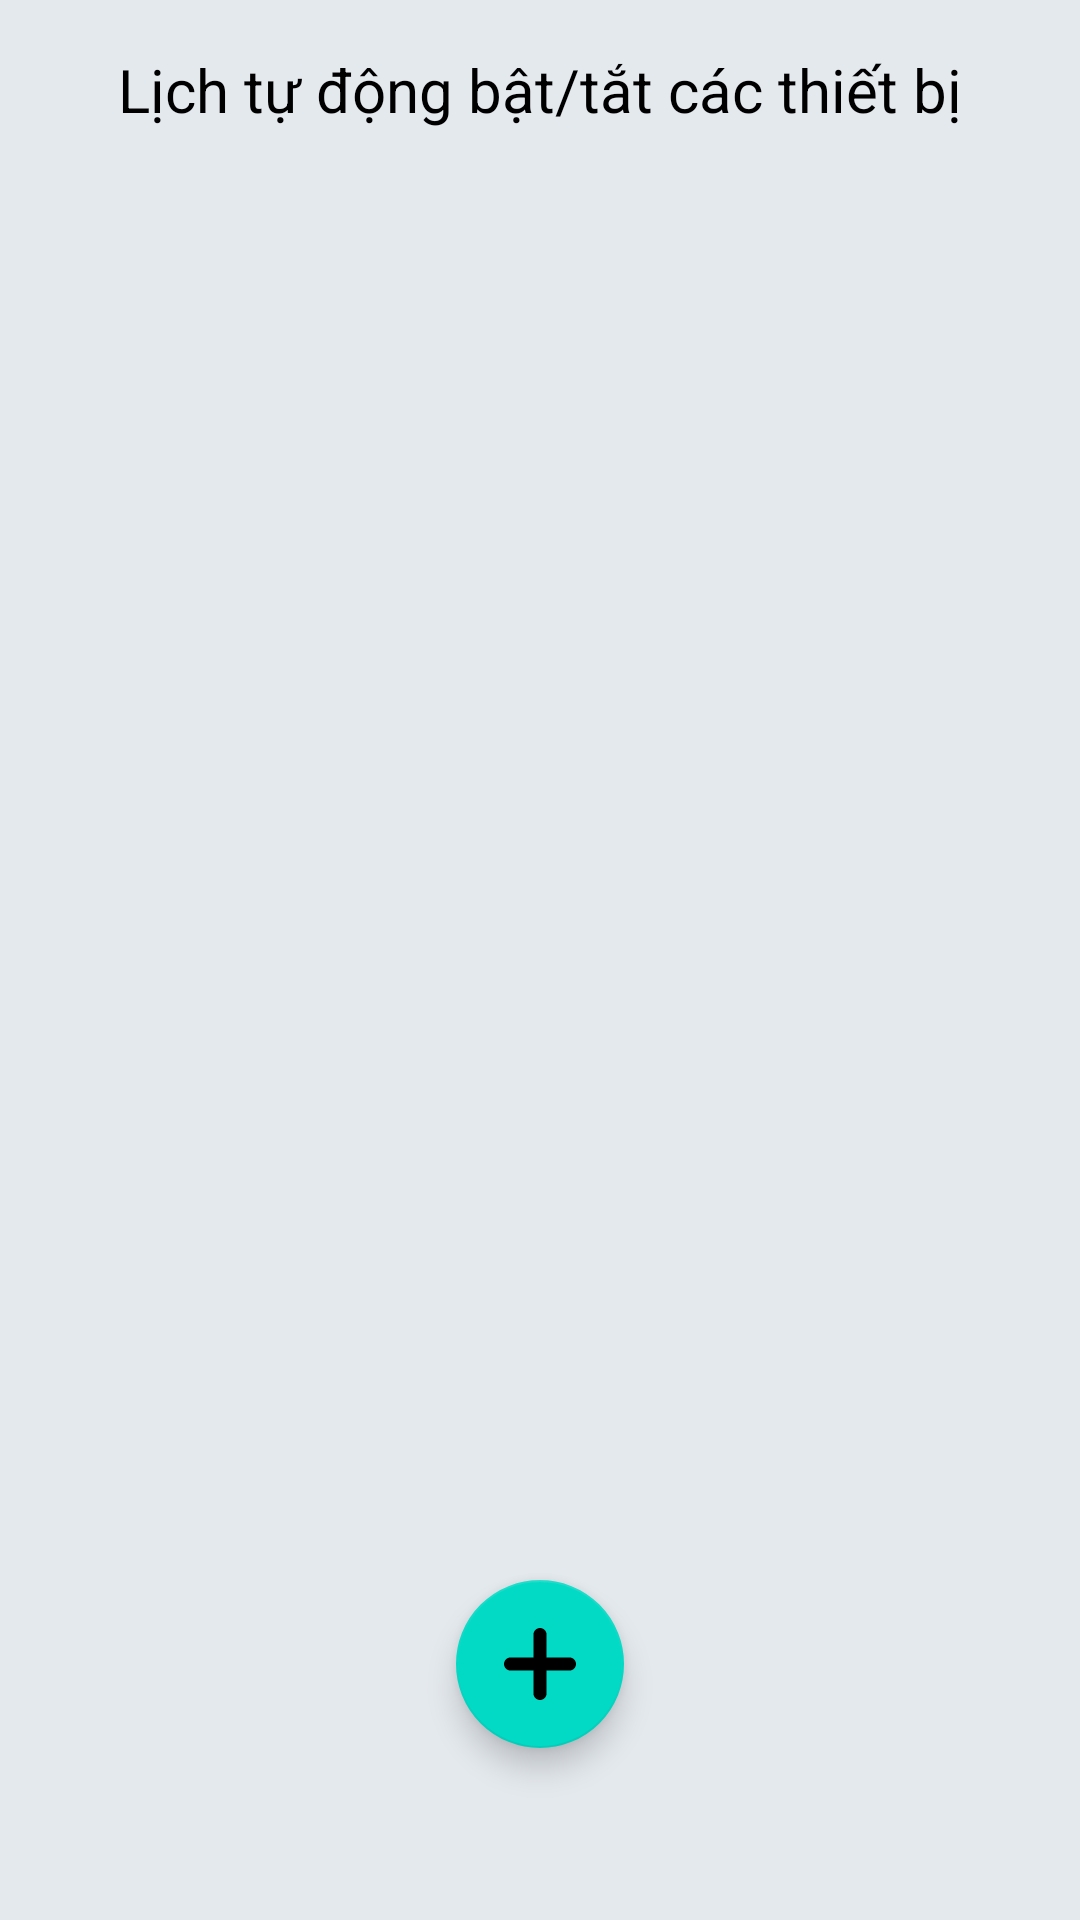

Icons on this 1080 x 1920 Android screen, each with its box as (x1, y1, x2, y2):
Add Scheduler: (456, 1580, 624, 1748)
